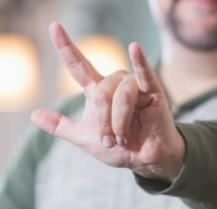back: (25, 18, 175, 169)
